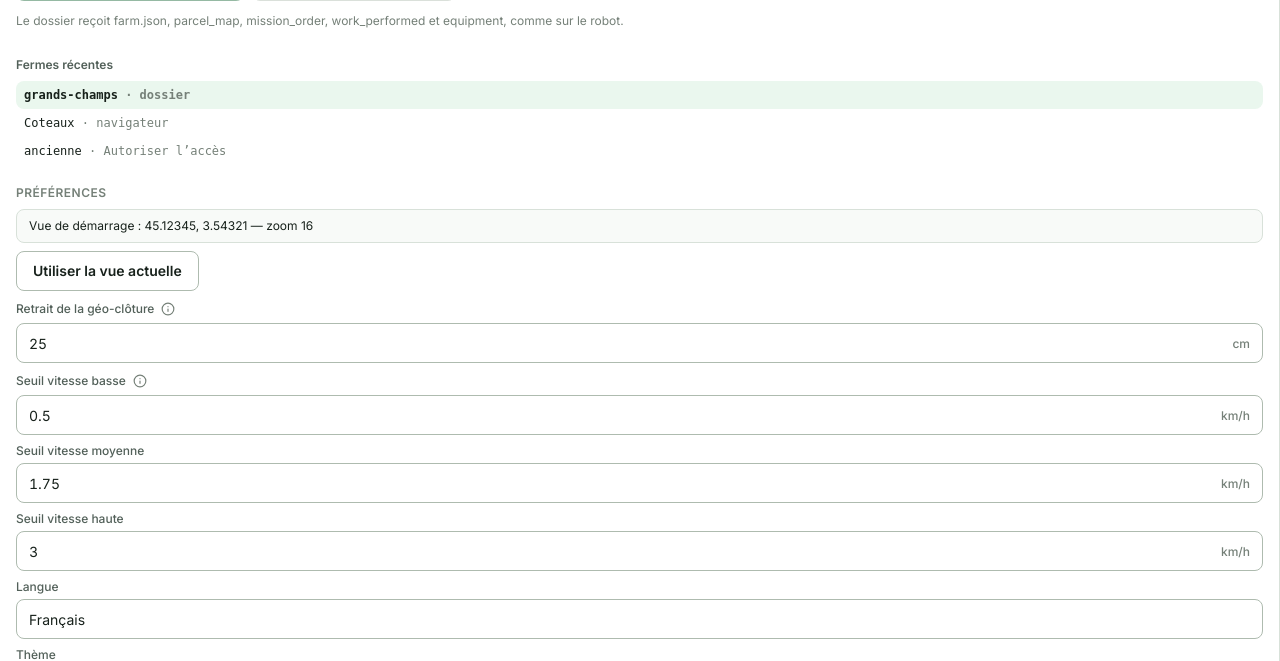
Test: administration saves through the farm API › stores zero or a custom geofence inset and rejects negative values
(page scrolled)
Replace the text in the number field labelled "Retrait de la géo-clôture" with "0" at (625, 343), box [17,324,1232,362]
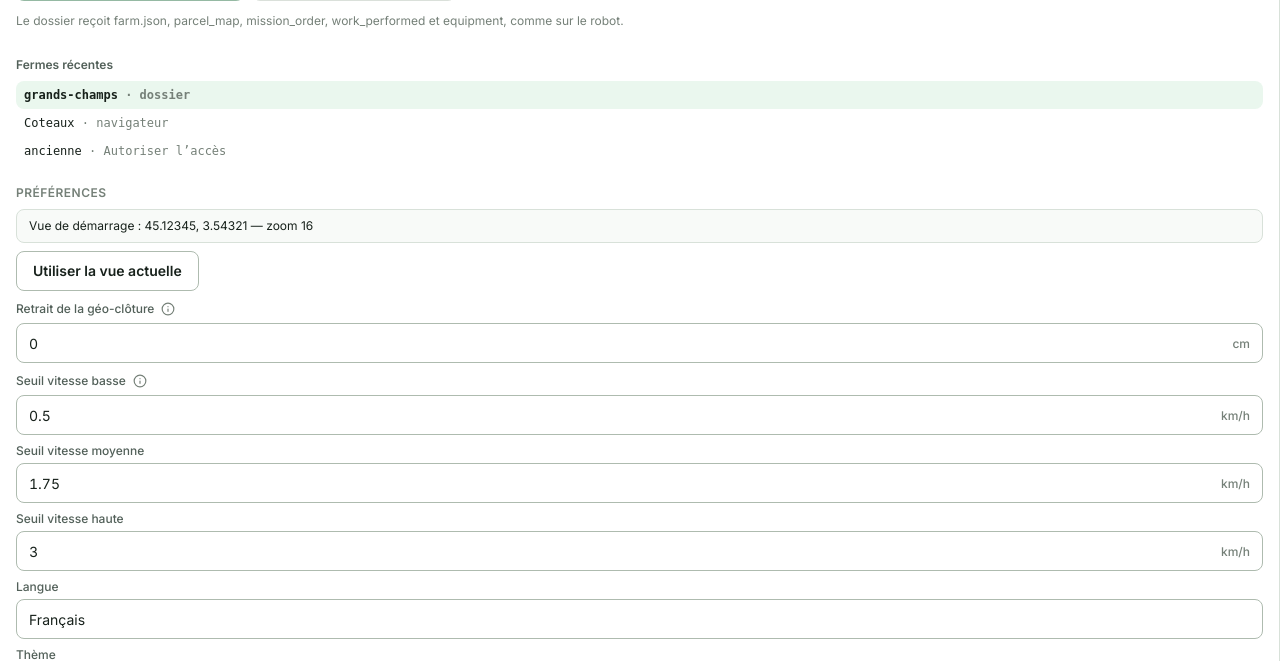
Replace the text in the number field labelled "Retrait de la géo-clôture" with "42" at (625, 343), box [17,324,1232,362]
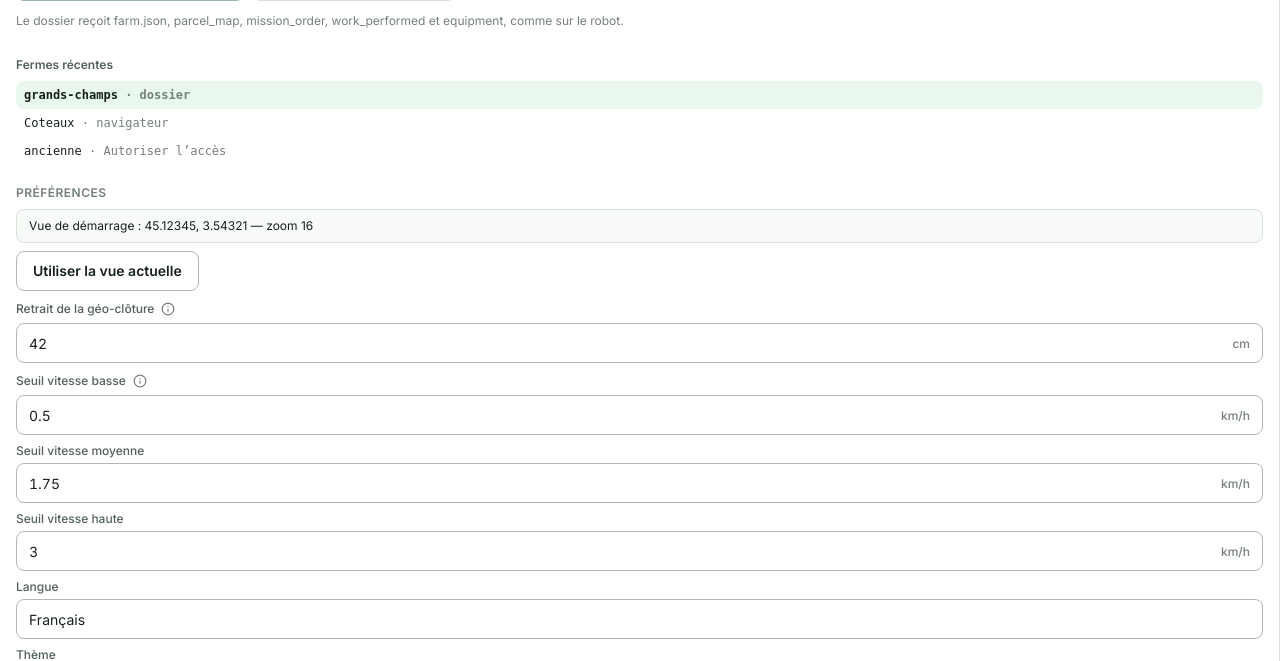
Replace the text in the number field labelled "Retrait de la géo-clôture" with "-1" at (625, 343), box [17,324,1232,362]
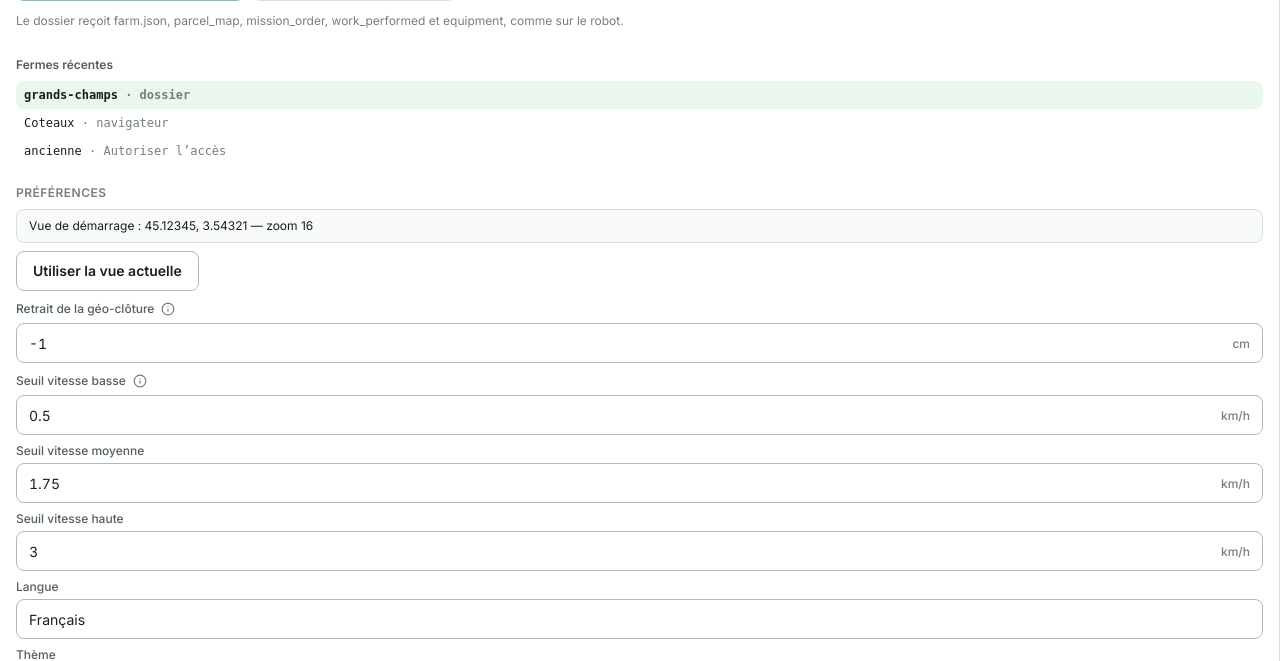
Leave the number field labelled "Retrait de la géo-clôture", box [17,324,1232,362]
(page scrolled)
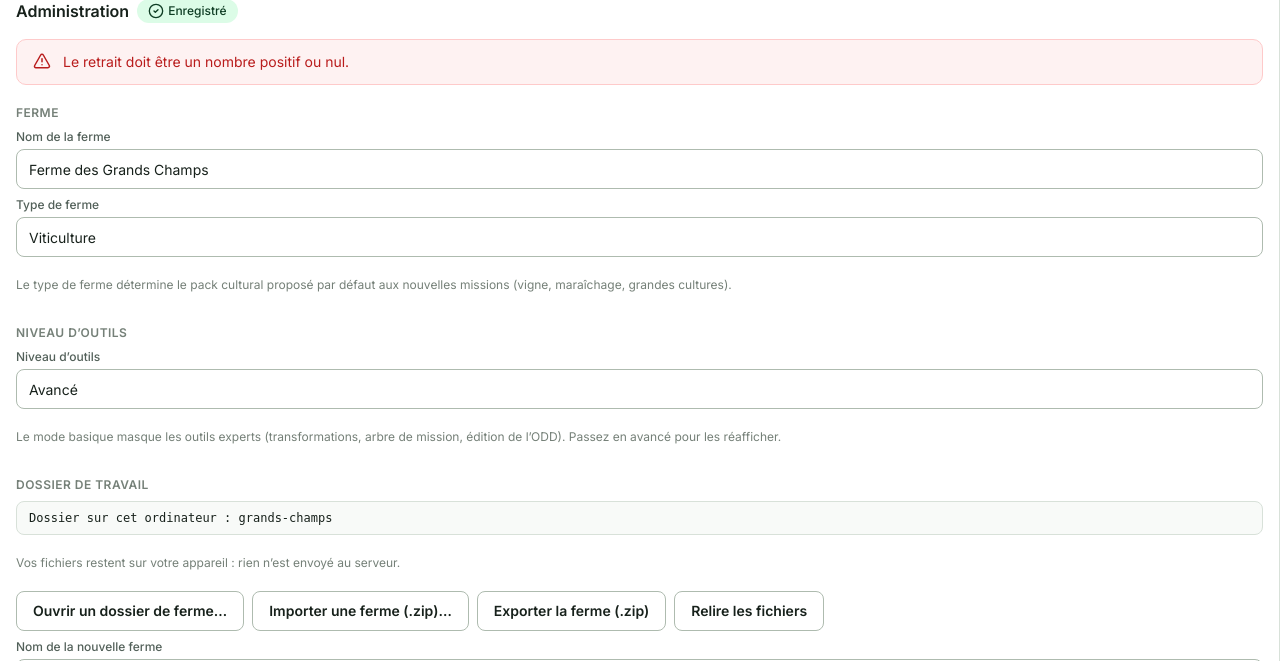
Expected: the text "Le retrait doit être un nombre positif ou nul." is shown, [63,52,349,72]
